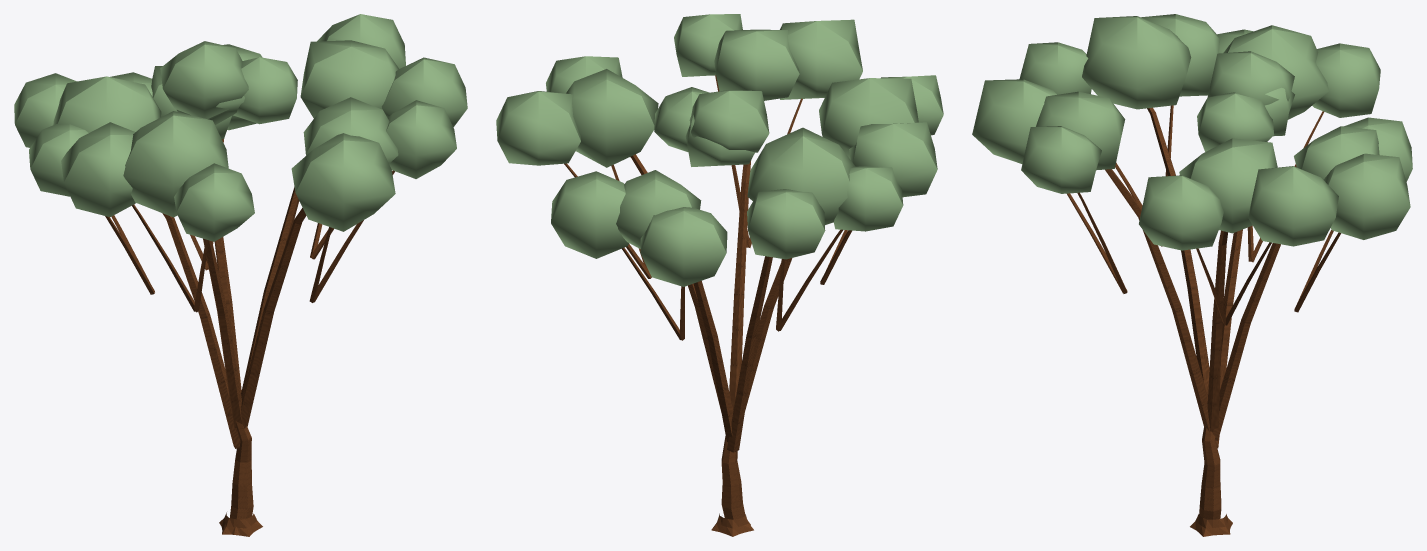
The model's file is oak-mature.glb.
3 views of the same model, side by side, from view 1: azimuth 30°, elevation 25°; view 2: azimuth 150°, elevation 25°; view 3: azimuth 270°, elevation 25° (orthographic). The views are drawn at different scales.
Parts seen in each view (by area): view 1: oak-mature; view 2: oak-mature; view 3: oak-mature.
Part boxes in pixels (x1=…): oak-mature: x1=14, y1=14, x2=467, y2=536; oak-mature: x1=496, y1=14, x2=943, y2=536; oak-mature: x1=972, y1=14, x2=1412, y2=536.
Size of the model in its own units: 16.45 by 18.37 by 15.69.
2 materials, 1 textured.
